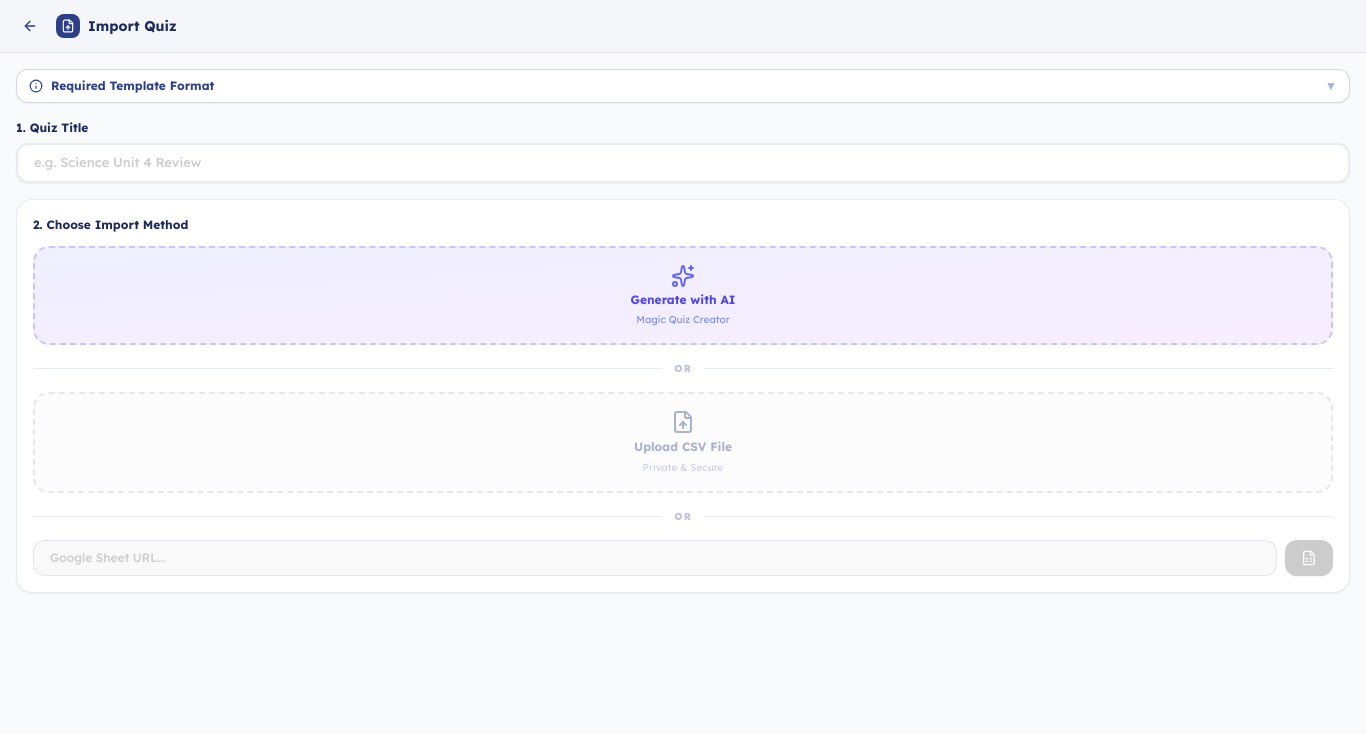
Test: QuizImporter › validates question types and falls back to MC for invalid types
This screenshot has width=1366, height=734.
Click the text "Generate with AI": click(683, 300) [631,292,735,308]
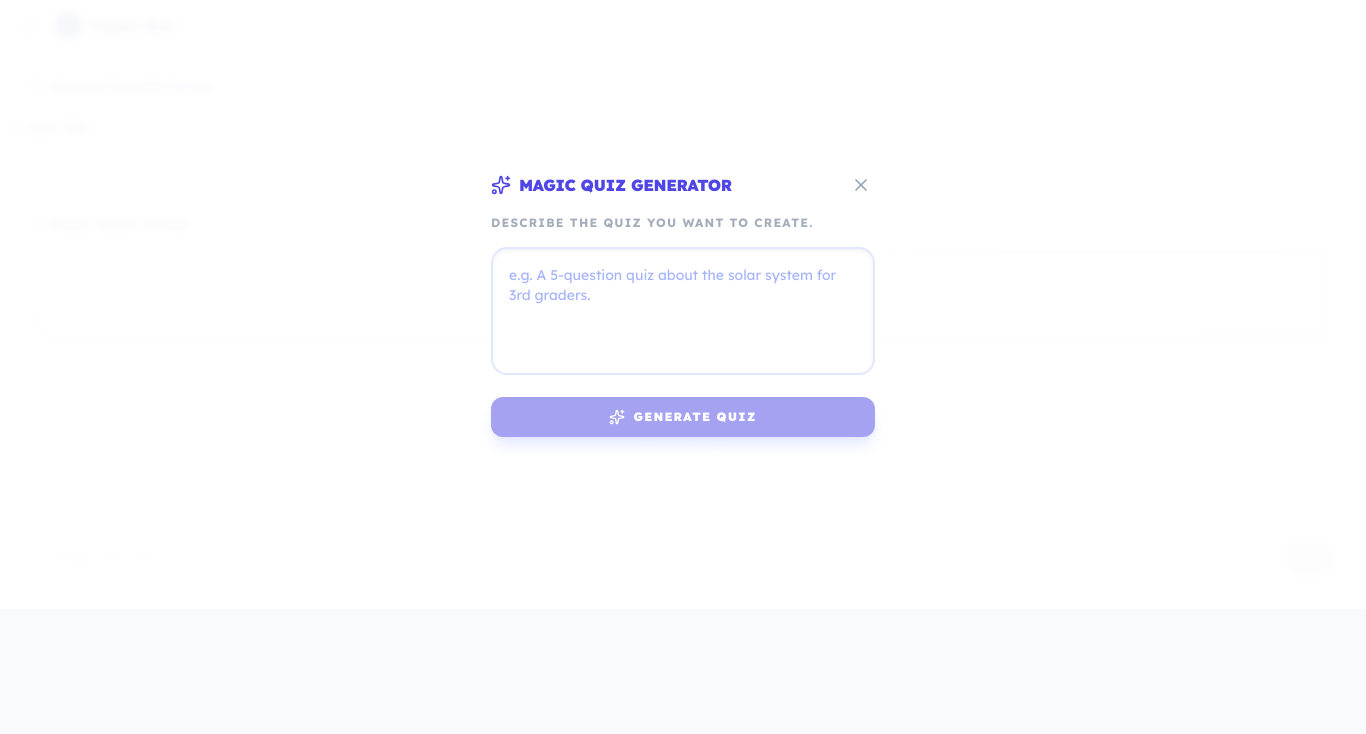
Replace the text in the text box with placeholder "e.g. A 5-question quiz" with "Coding quiz": (683, 311) [491,247,875,375]
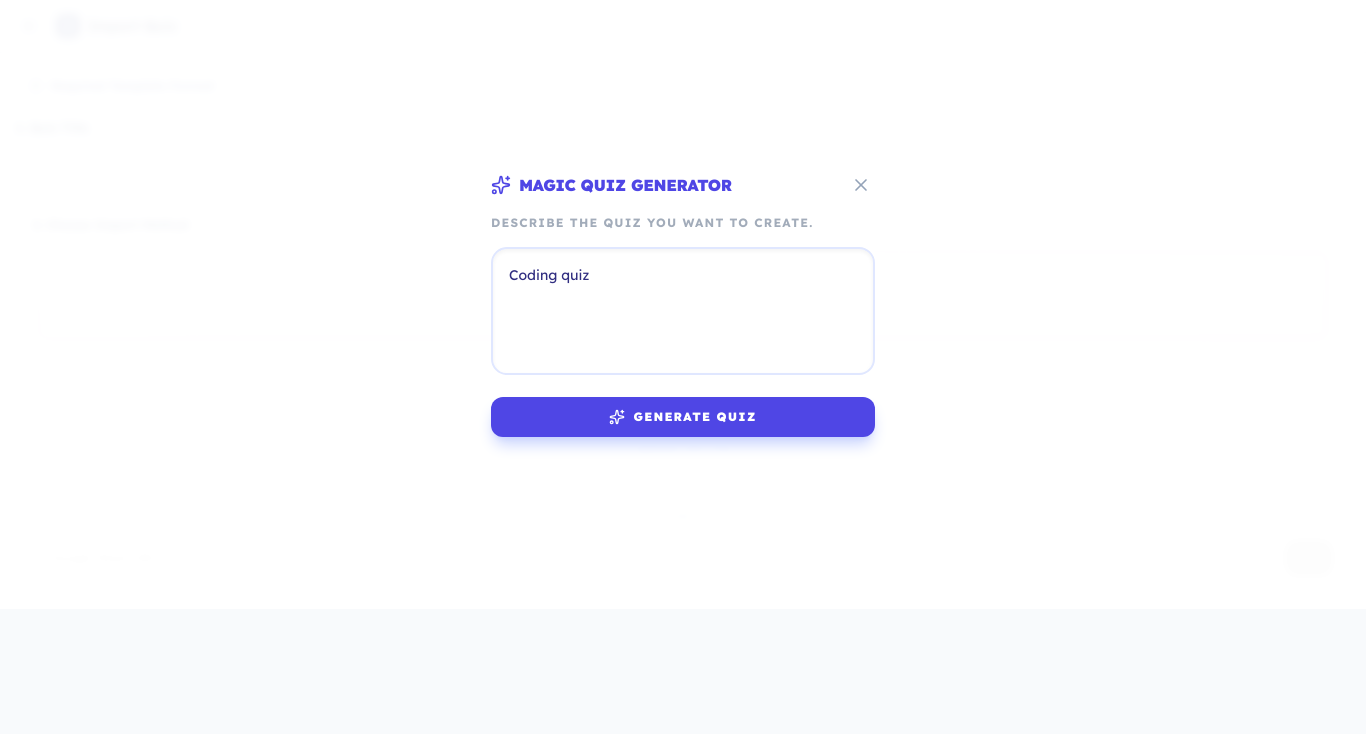
Click the button "Generate Quiz": click(683, 417) [491,397,875,437]
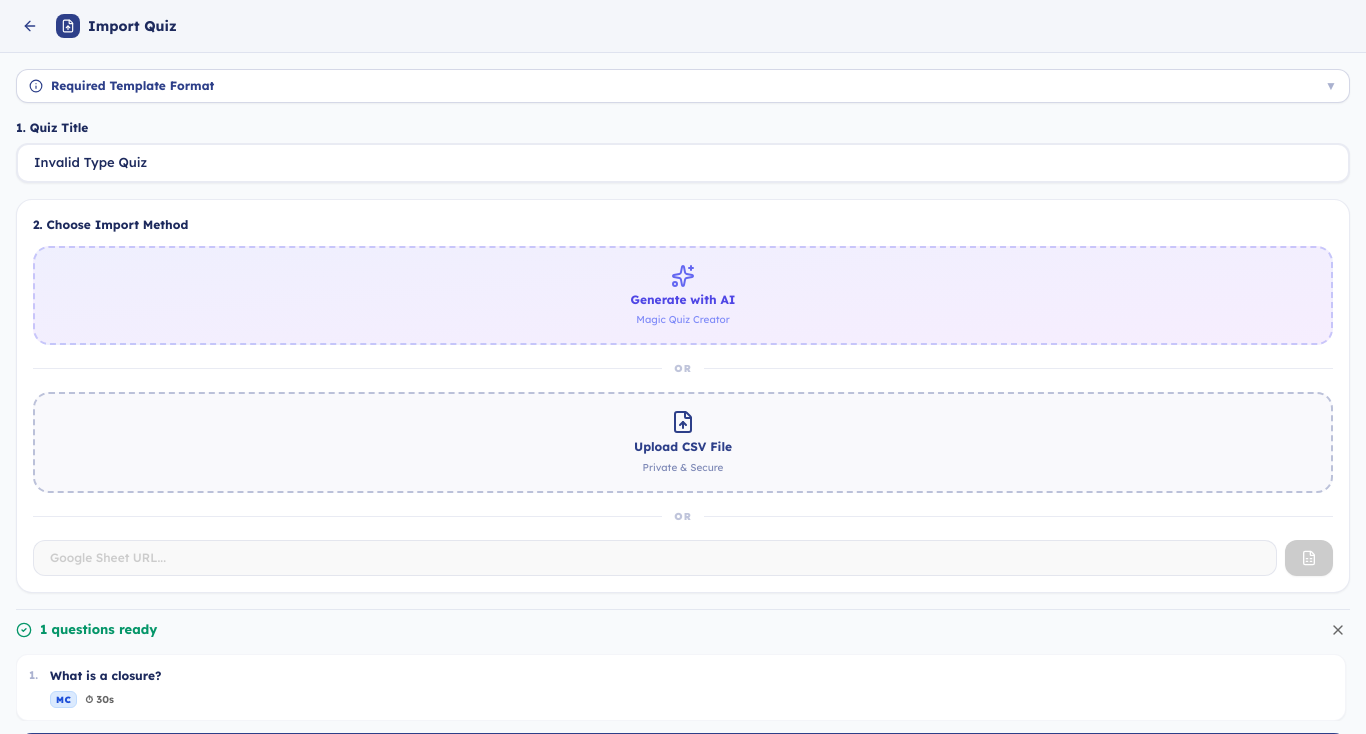
expect the field showing "Invalid Type Quiz" is shown: met, box [16,143,1350,182]
expect the text "MC" is shown: met, box [50,690,77,708]
